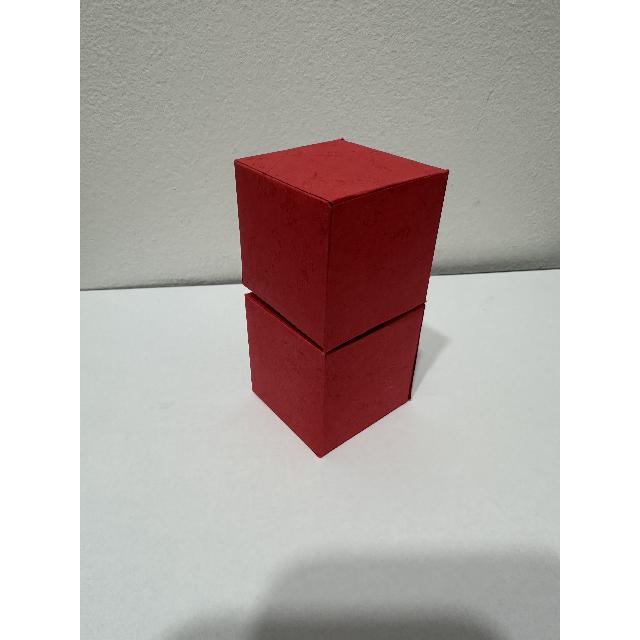red_cube: (213, 134, 477, 468)
